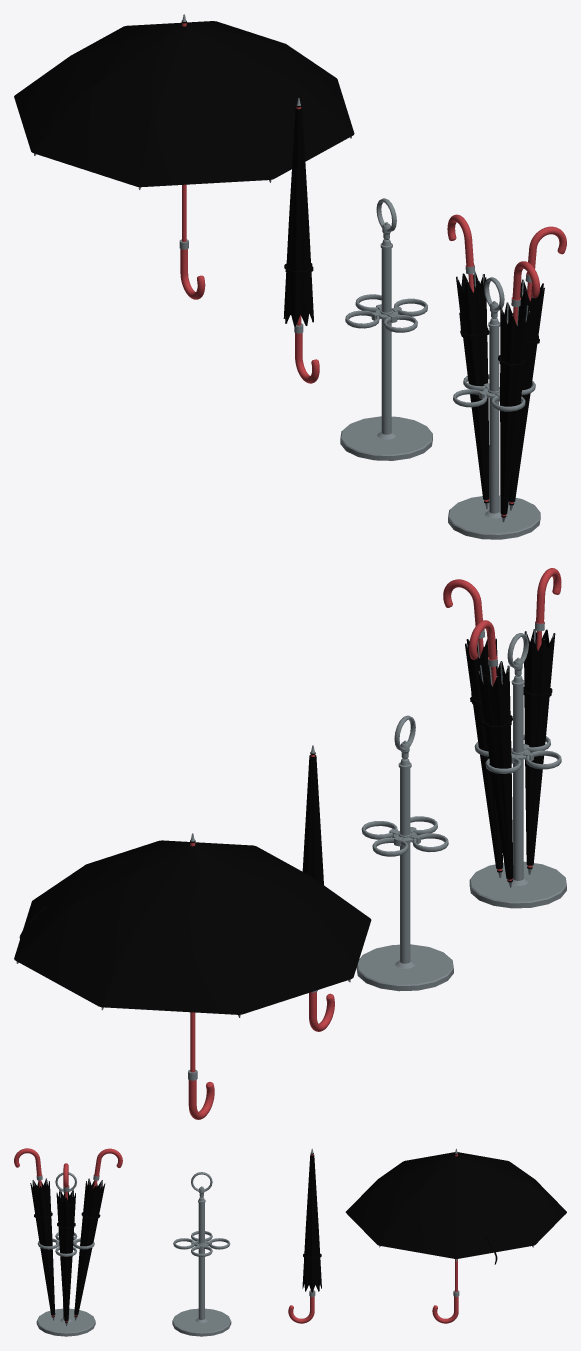
File: payung dan tempatnya.glb
3 views of the same model, one above another, from view 1: azimuth 30°, elevation 25°; view 2: azimuth 150°, elevation 25°; view 3: azimuth 270°, elevation 25° (orthographic). The views are drawn at different scales.
Parts seen in each view (by area): view 1: classic_umbrela_opened, classic_umbrela_closed.001, classic_umbrella_stand, classic_umbrela_closed; view 2: classic_umbrela_opened, classic_umbrela_closed.001, classic_umbrella_stand, classic_umbrela_closed; view 3: classic_umbrela_opened, classic_umbrela_closed.001, classic_umbrella_stand, classic_umbrela_closed.
Part boxes in pixels (x1,y1,x2,y2): classic_umbrela_opened: [14, 14, 354, 299]; classic_umbrela_closed.001: [447, 214, 566, 539]; classic_umbrella_stand: [340, 198, 432, 460]; classic_umbrela_closed: [283, 98, 319, 383]; classic_umbrela_opened: [14, 833, 371, 1119]; classic_umbrela_closed.001: [443, 568, 566, 908]; classic_umbrella_stand: [356, 715, 453, 991]; classic_umbrela_closed: [302, 745, 334, 1031]; classic_umbrela_opened: [345, 1148, 566, 1323]; classic_umbrela_closed.001: [14, 1148, 122, 1336]; classic_umbrella_stand: [172, 1172, 231, 1336]; classic_umbrela_closed: [288, 1148, 321, 1323].
Bounding box in the file's own units: 1.54 × 1.35 × 3.85.
